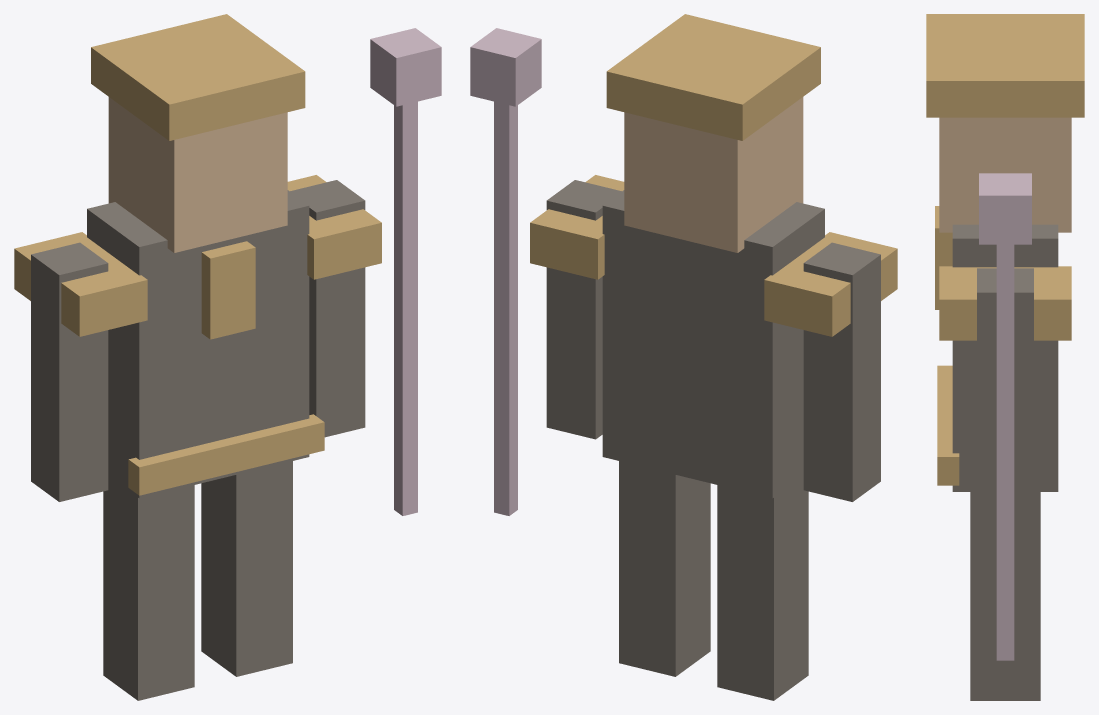
Rendered from 19_maven_frostrelay_warden_under_vowel.glb.
3 renders of one model, left to right at view 1: azimuth 30°, elevation 25°; view 2: azimuth 150°, elevation 25°; view 3: azimuth 270°, elevation 25°, orthographic.
Visible parts, largest first — view 1: Maven Frostrelay, Warden under Vowel; view 2: Maven Frostrelay, Warden under Vowel; view 3: Maven Frostrelay, Warden under Vowel.
Part boxes in pixels (bbox=[...]): Maven Frostrelay, Warden under Vowel: bbox=[14, 14, 441, 700]; Maven Frostrelay, Warden under Vowel: bbox=[470, 14, 897, 700]; Maven Frostrelay, Warden under Vowel: bbox=[926, 14, 1084, 700].
Size of the model in its own units: 0.9897 by 1.5 by 0.351.
